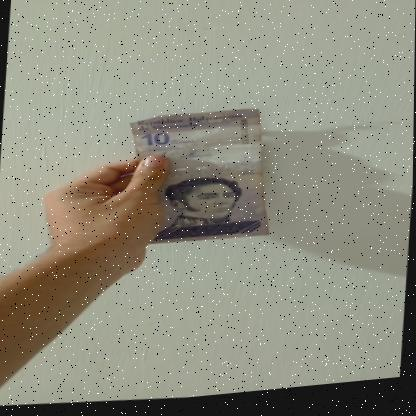ten-front-vef: (119, 104, 279, 259)
